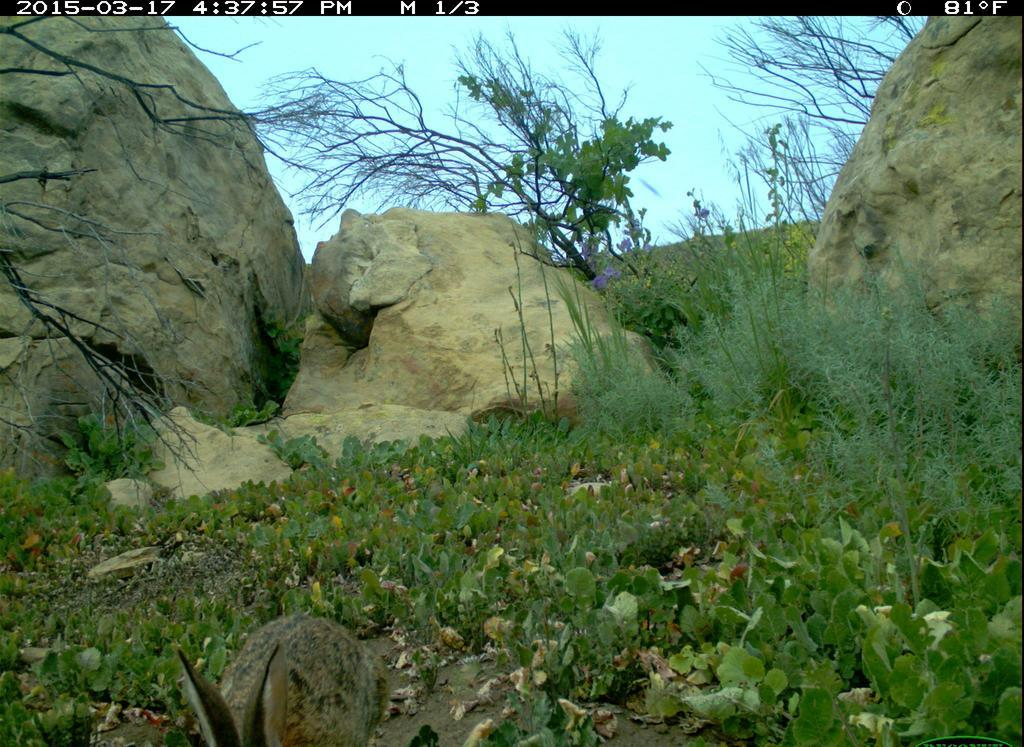rabbit: (166, 605, 414, 744)
